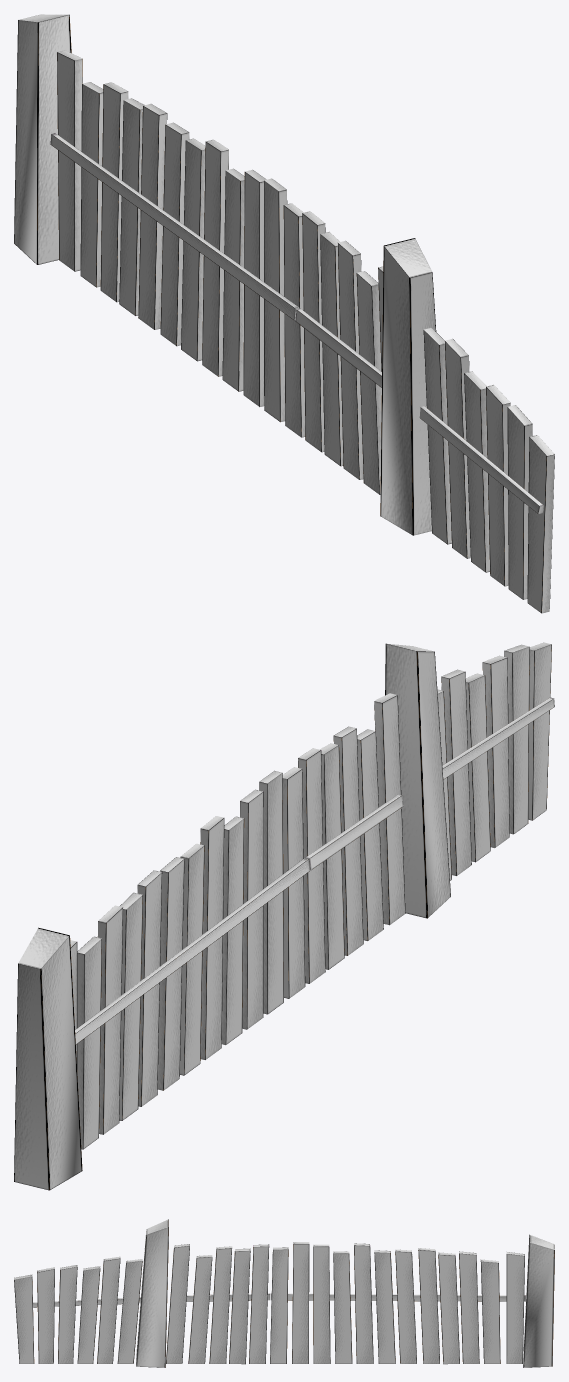
The model's file is fence.fbx.
The picture shows the model from 3 angles, top to bottom: view 1: azimuth 30°, elevation 25°; view 2: azimuth 150°, elevation 25°; view 3: azimuth 270°, elevation 25°; orthographic projection. The views are drawn at different scales.
Parts seen in each view (by area): view 1: Fence3, Fence1, Fence2; view 2: Fence3, Fence1, Fence2; view 3: Fence3, Fence1, Fence2.
Part boxes in pixels (x1,y1,x2,y2): Fence3: (14,14,305,437); Fence1: (380,238,554,613); Fence2: (295,211,383,494); Fence3: (14,767,309,1190); Fence1: (385,642,554,918); Fence2: (298,693,405,983); Fence3: (270,1234,554,1367); Fence1: (14,1219,168,1367); Fence2: (166,1244,270,1364).
Bounding box in the file's own units: 53.48 × 304 × 1072.
